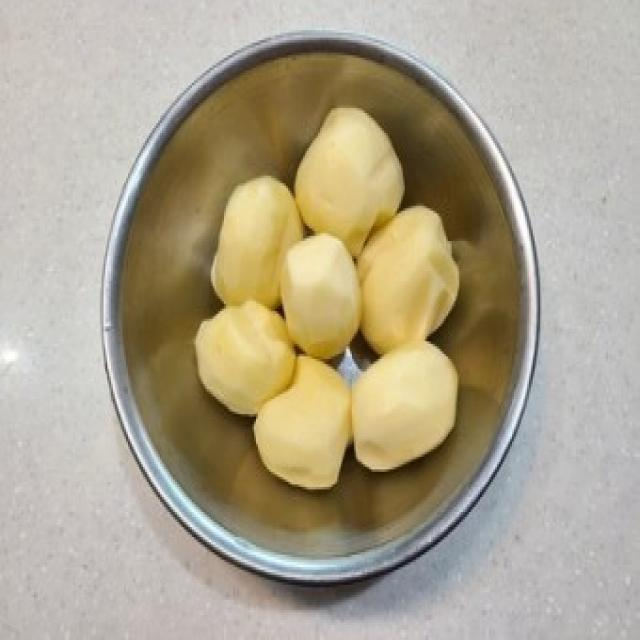potato: (293, 100, 402, 256), (356, 202, 464, 358), (254, 348, 356, 489), (356, 336, 460, 474), (211, 172, 305, 318), (194, 296, 298, 416), (282, 228, 358, 362)
